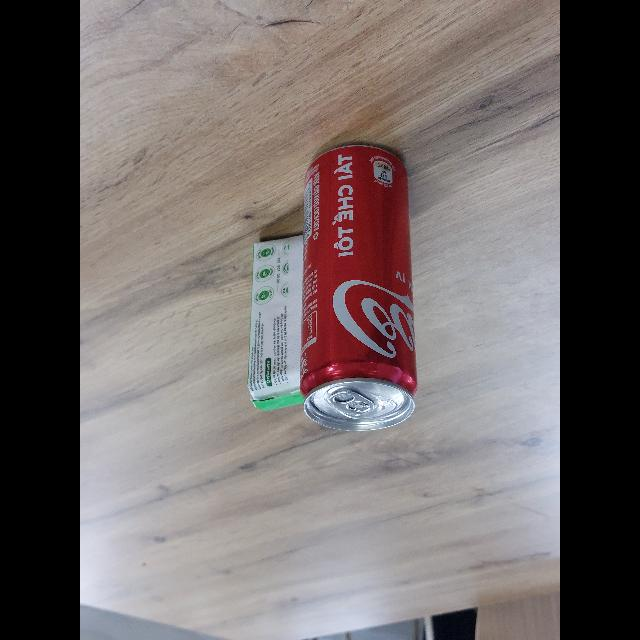coca_cola: (299, 142, 418, 431)
khan_giay: (248, 232, 305, 410)
